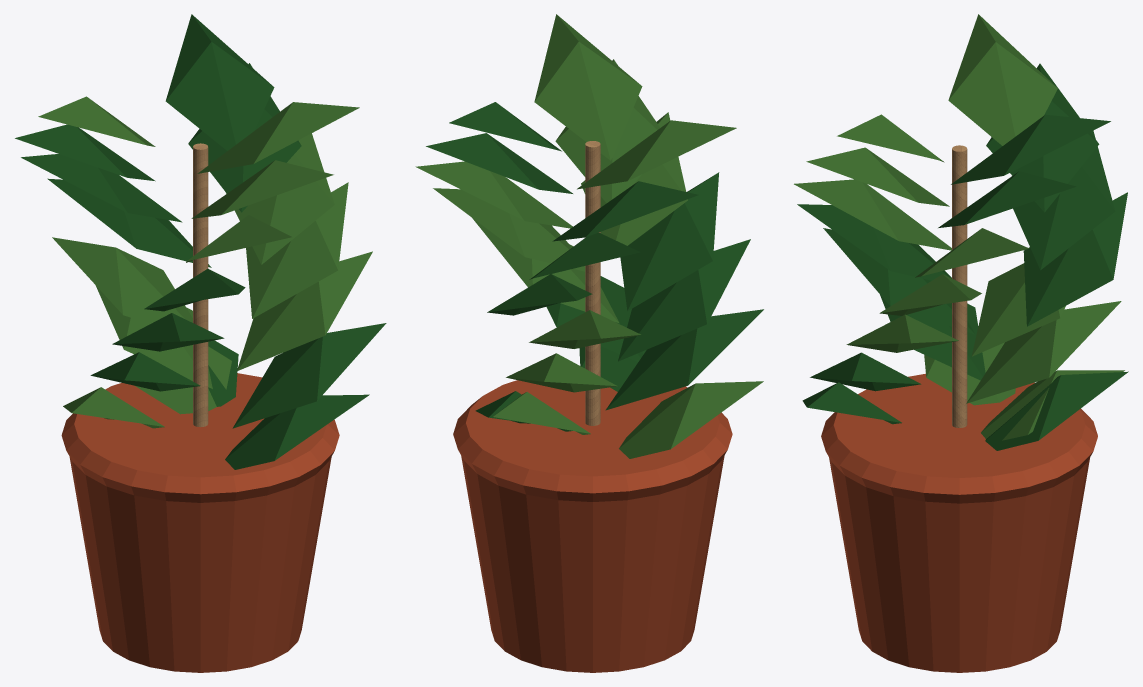
The model's file is entry_plant.dae.
3 views of the same model, side by side, from view 1: azimuth 30°, elevation 25°; view 2: azimuth 150°, elevation 25°; view 3: azimuth 270°, elevation 25° (orthographic).
Visible parts, largest first — view 1: terra, leaf, leaf_light, oak; view 2: terra, leaf_light, leaf, oak; view 3: terra, leaf, leaf_light, oak.
Boxes of the visible parts, bbox=[...] form: terra: bbox=[61, 373, 339, 672]; leaf: bbox=[15, 14, 386, 469]; leaf_light: bbox=[38, 96, 372, 428]; oak: bbox=[193, 143, 208, 427]; terra: bbox=[453, 380, 732, 672]; leaf_light: bbox=[415, 14, 763, 458]; leaf: bbox=[426, 102, 763, 431]; oak: bbox=[585, 141, 600, 425]; terra: bbox=[821, 373, 1097, 672]; leaf: bbox=[797, 63, 1128, 450]; leaf_light: bbox=[794, 14, 1124, 440]; oak: bbox=[952, 145, 967, 427].
Size of the model in its own units: 0.5609 by 0.5333 by 0.9493.
Materials: 4 (1 with a texture image).
